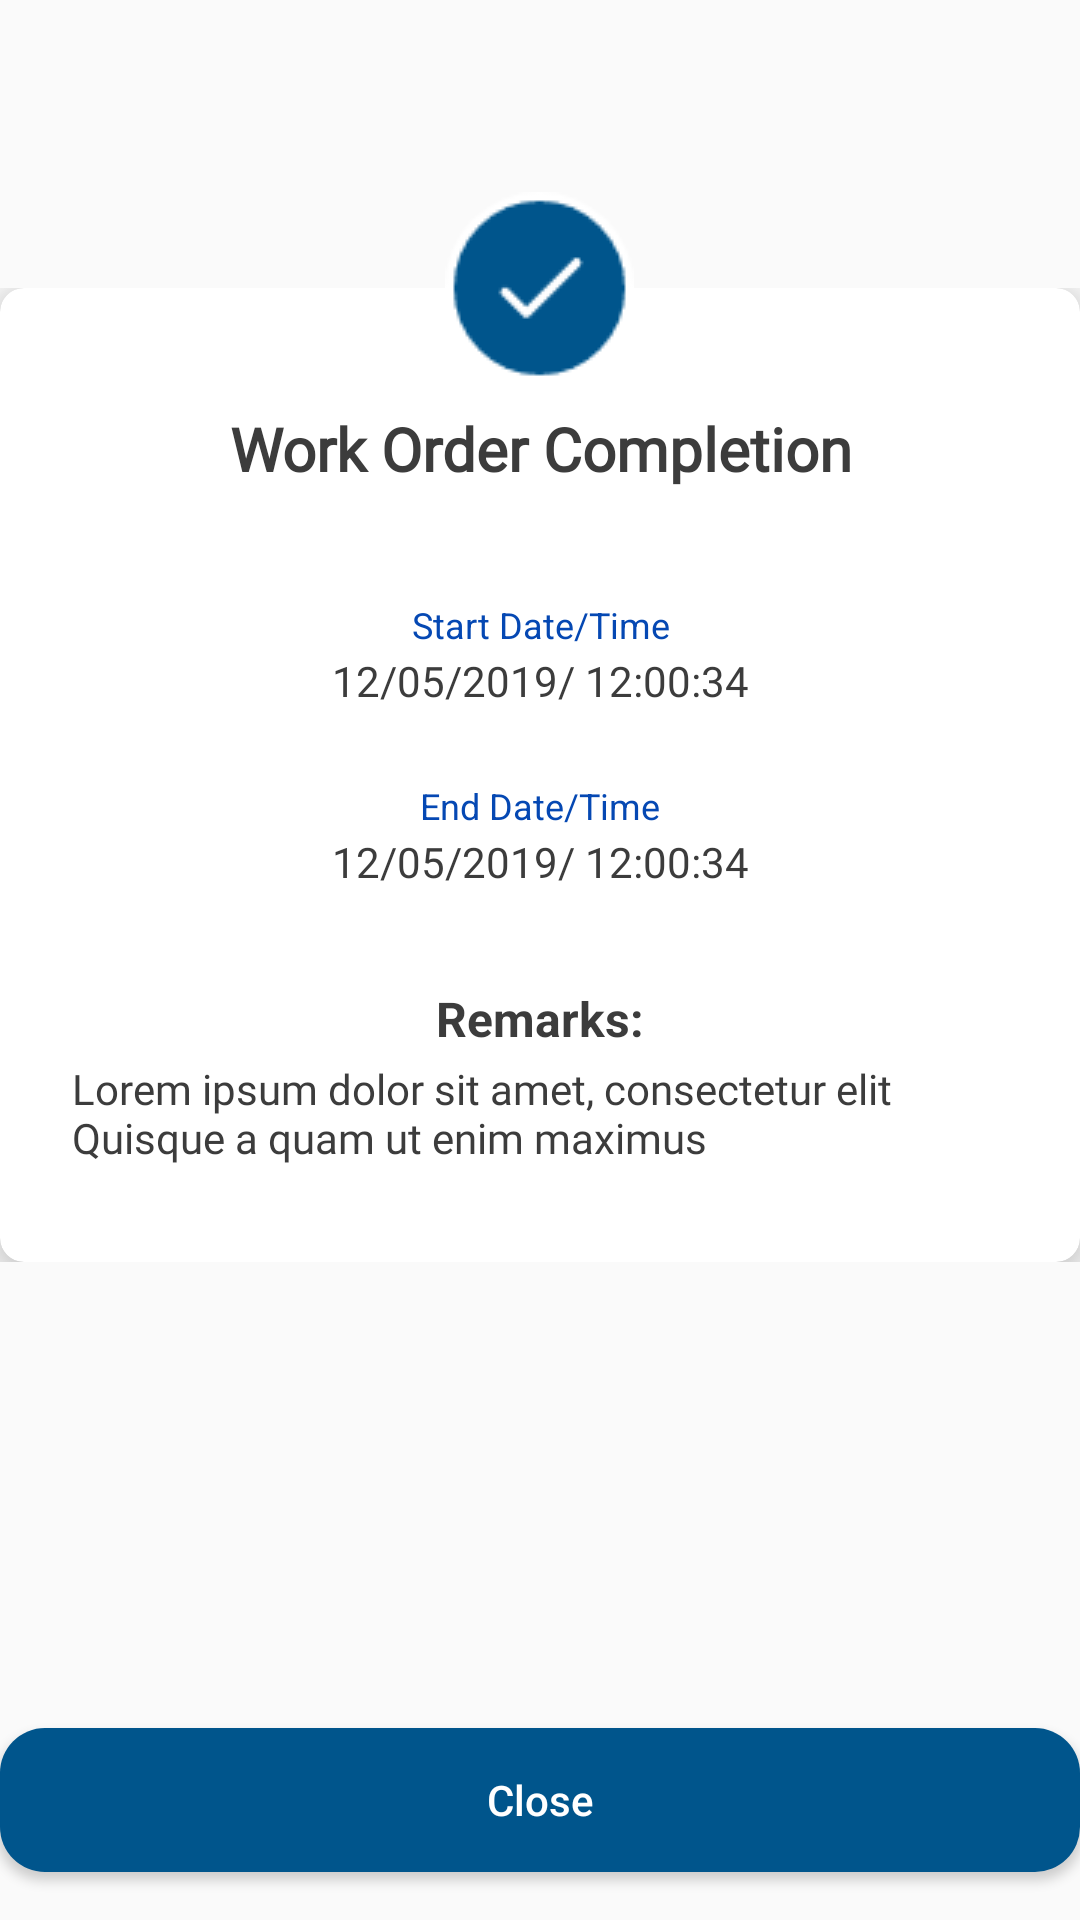

Icons on this 1080*1920 Android screen, each with its box as (x1, y1, x2, y2):
complete: (453, 200, 626, 376)
